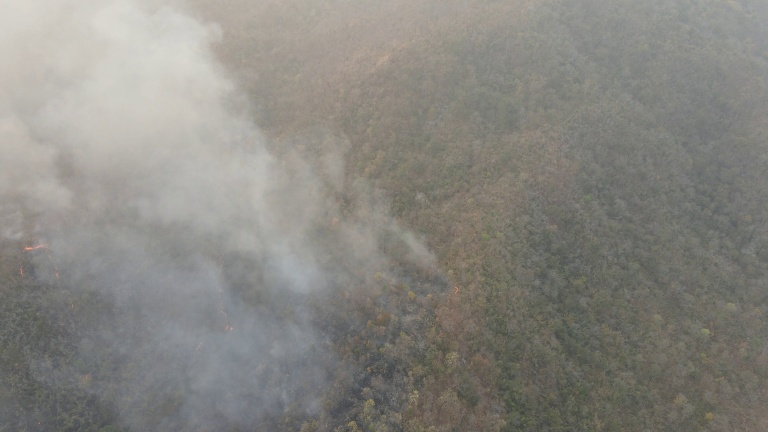fire: (17, 244, 63, 283), (434, 259, 462, 323), (211, 270, 235, 338)
smoke: (1, 1, 482, 431)
